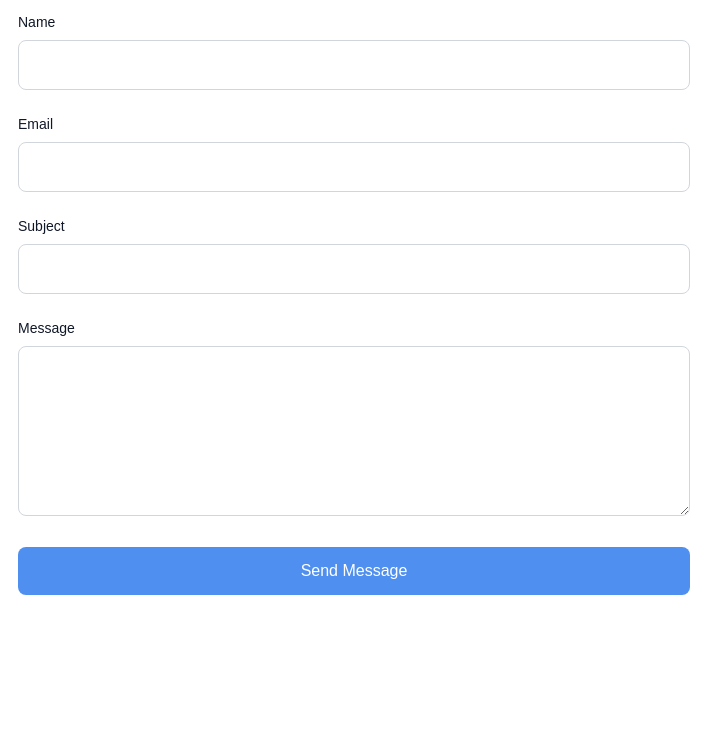
Test: ContactForm Unit Tests › Form Submission › should display error message on submission failure
The width and height of the screenshot is (709, 742).
Type "John Doe" into the field labelled "Name" at (354, 65), box [18,40,690,90]
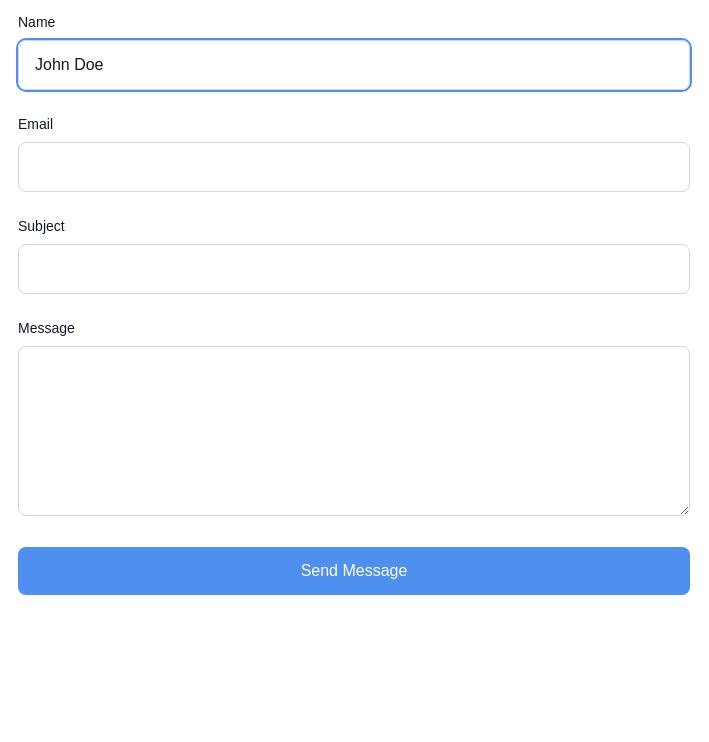
Type "john@example.com" into the field labelled "Email" at (354, 167), box [18,142,690,192]
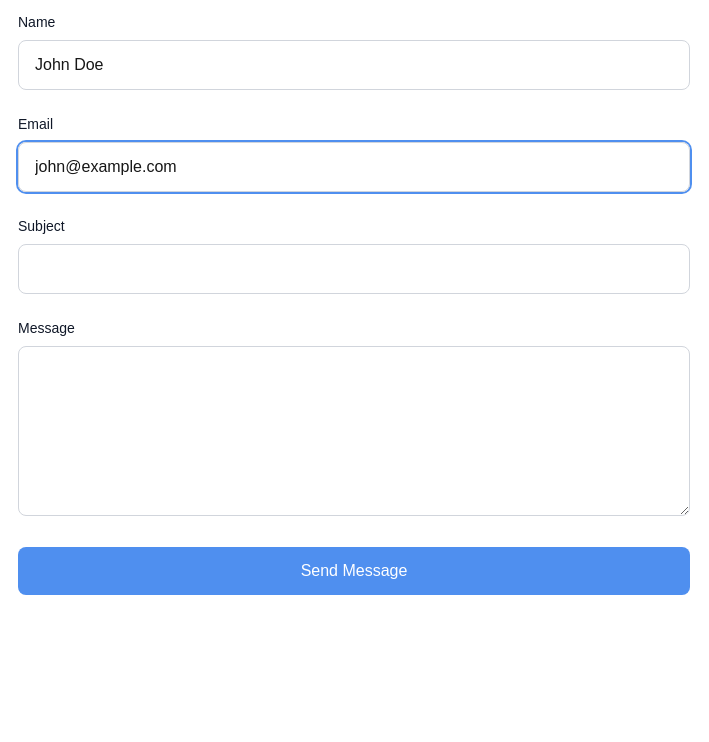
Type "Test Subject" into the field labelled "Subject" at (354, 269), box [18,244,690,294]
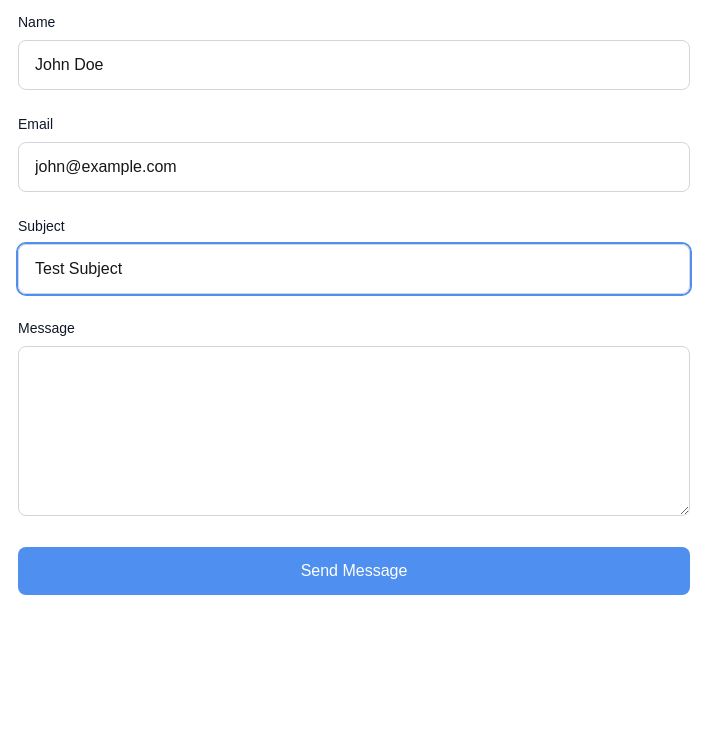
Type "This is a test message" into the text box labelled "Message" at (354, 431), box [18,346,690,516]
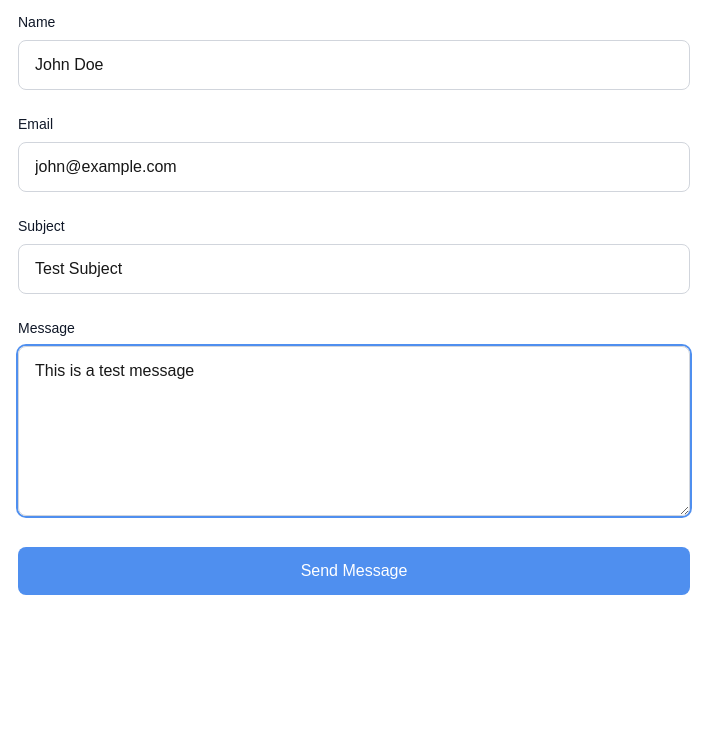
Click the button "Send Message" at (354, 571), box [18,547,690,595]
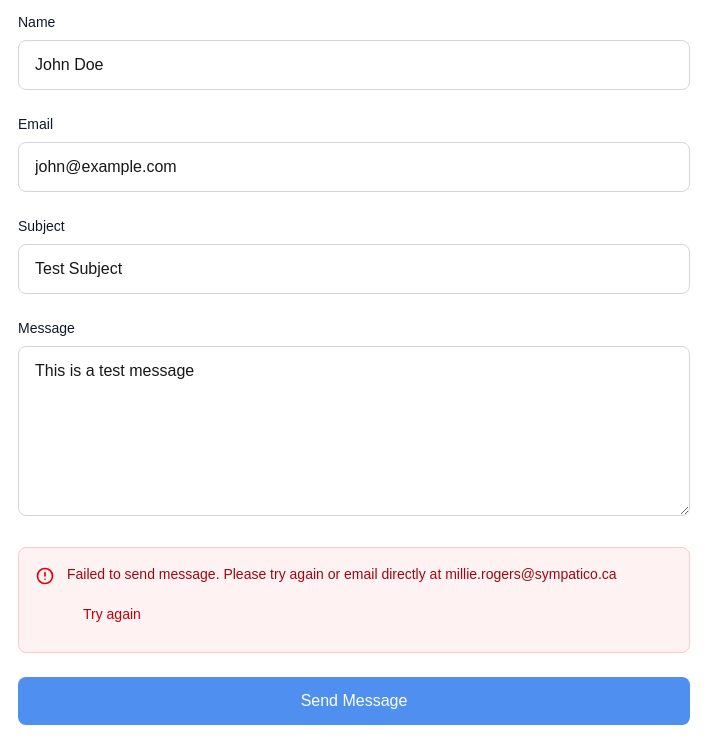
Expected: the text "Failed to send message" is shown, [67,566,617,582]
